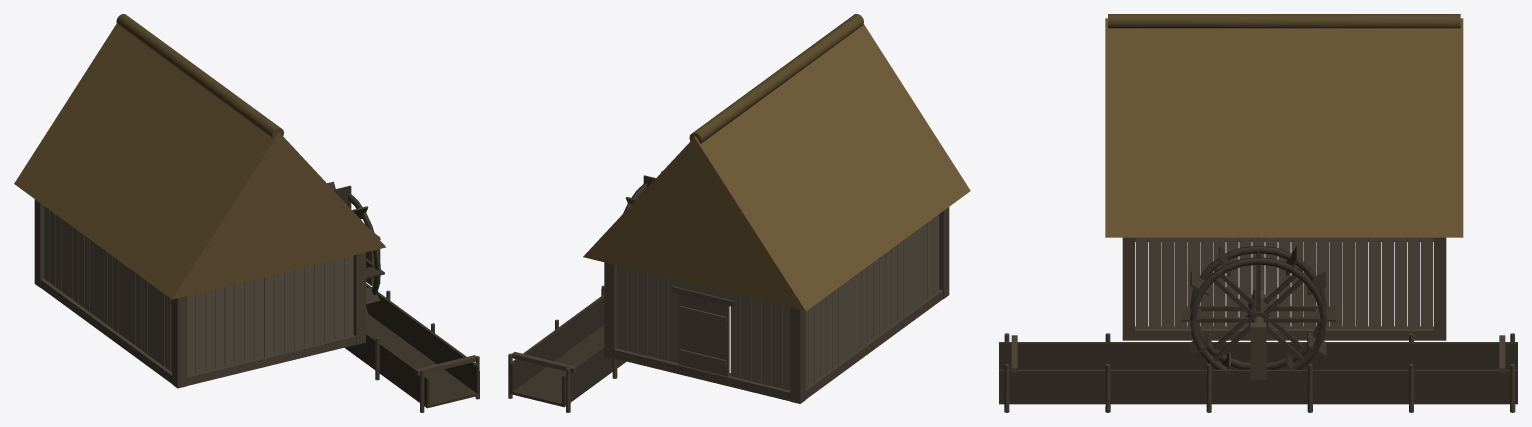
Rendered from watermill-1000.glb.
3 views of the same model, side by side, from view 1: azimuth 30°, elevation 25°; view 2: azimuth 150°, elevation 25°; view 3: azimuth 270°, elevation 25° (orthographic). The views are drawn at different scales.
Visible parts, largest first — view 1: roof-main, leat-wall-outer, roof-ridge-roll, leat-floor, leat-wall-inner, sill-beam-north, sill-beam-west, corner-post-02, corner-post-01, corner-post-04, wall-north.10, wall-north.05 (+39 smaller); view 2: roof-main, door-leaf, roof-ridge-roll, leat-wall-outer, leat-floor, sill-beam-south, sill-beam-west, corner-post-04, leat-wall-inner, corner-post-03, corner-post-02, wall-south-left.04 (+35 smaller); view 3: roof-main, leat-wall-outer, leat-wall-inner, roof-ridge-roll, sill-beam-east, wheel-rim-outer, leat-floor, wheel-rim-inner, corner-post-01, corner-post-03, wall-east.07, wall-east.21 (+25 smaller).
Part boxes in pixels (x1=…): roof-main: x1=14, y1=23, x2=385, y2=299; leat-wall-outer: x1=366, y1=283, x2=479, y2=393; roof-ridge-roll: x1=116, y1=14, x2=283, y2=138; leat-floor: x1=344, y1=314, x2=479, y2=407; leat-wall-inner: x1=346, y1=332, x2=429, y2=408; sill-beam-north: x1=187, y1=335, x2=355, y2=385; sill-beam-west: x1=40, y1=278, x2=172, y2=383; corner-post-02: x1=172, y1=296, x2=187, y2=388; corner-post-01: x1=353, y1=252, x2=365, y2=344; corner-post-04: x1=34, y1=199, x2=44, y2=287; wall-north.10: x1=274, y1=272, x2=284, y2=354; wall-north.05: x1=224, y1=284, x2=234, y2=366; roof-main: x1=583, y1=24, x2=970, y2=311; door-leaf: x1=678, y1=294, x2=729, y2=376; roof-ridge-roll: x1=689, y1=14, x2=863, y2=143; leat-wall-outer: x1=509, y1=294, x2=604, y2=393; leat-floor: x1=509, y1=325, x2=625, y2=407; sill-beam-south: x1=614, y1=348, x2=790, y2=401; sill-beam-west: x1=806, y1=289, x2=942, y2=399; corner-post-04: x1=790, y1=308, x2=805, y2=403; leat-wall-inner: x1=562, y1=345, x2=626, y2=406; corner-post-03: x1=604, y1=262, x2=616, y2=358; corner-post-02: x1=939, y1=207, x2=949, y2=299; wall-south-left.04: x1=751, y1=298, x2=761, y2=383; roof-main: x1=1105, y1=18, x2=1463, y2=237; leat-wall-outer: x1=999, y1=369, x2=1517, y2=404; leat-wall-inner: x1=999, y1=342, x2=1517, y2=369; roof-ridge-roll: x1=1108, y1=14, x2=1460, y2=28; sill-beam-east: x1=1135, y1=326, x2=1433, y2=340; wheel-rim-outer: x1=1190, y1=257, x2=1326, y2=369; leat-floor: x1=999, y1=401, x2=1517, y2=404; wheel-rim-inner: x1=1190, y1=246, x2=1326, y2=369; corner-post-01: x1=1122, y1=237, x2=1134, y2=340; corner-post-03: x1=1434, y1=237, x2=1446, y2=340; wall-east.07: x1=1343, y1=237, x2=1355, y2=329; wall-east.21: x1=1161, y1=237, x2=1173, y2=329.
Bounding box in the file's own units: 6.86 × 6.63 × 10.
